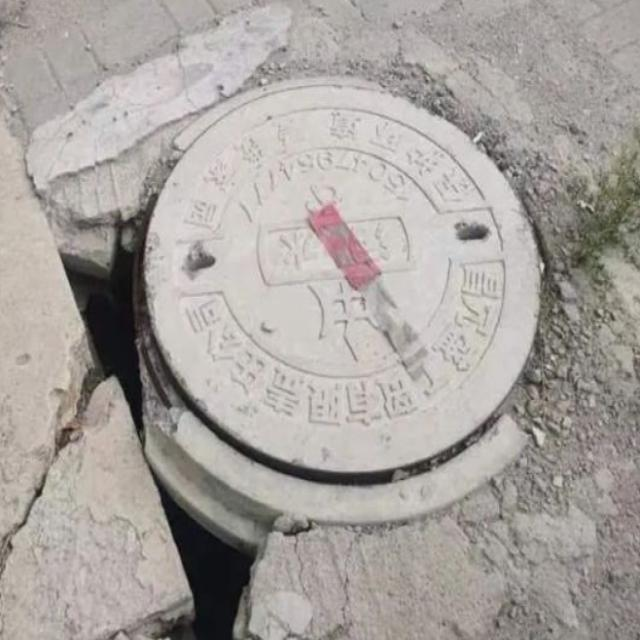manhole: (67, 78, 544, 640)
